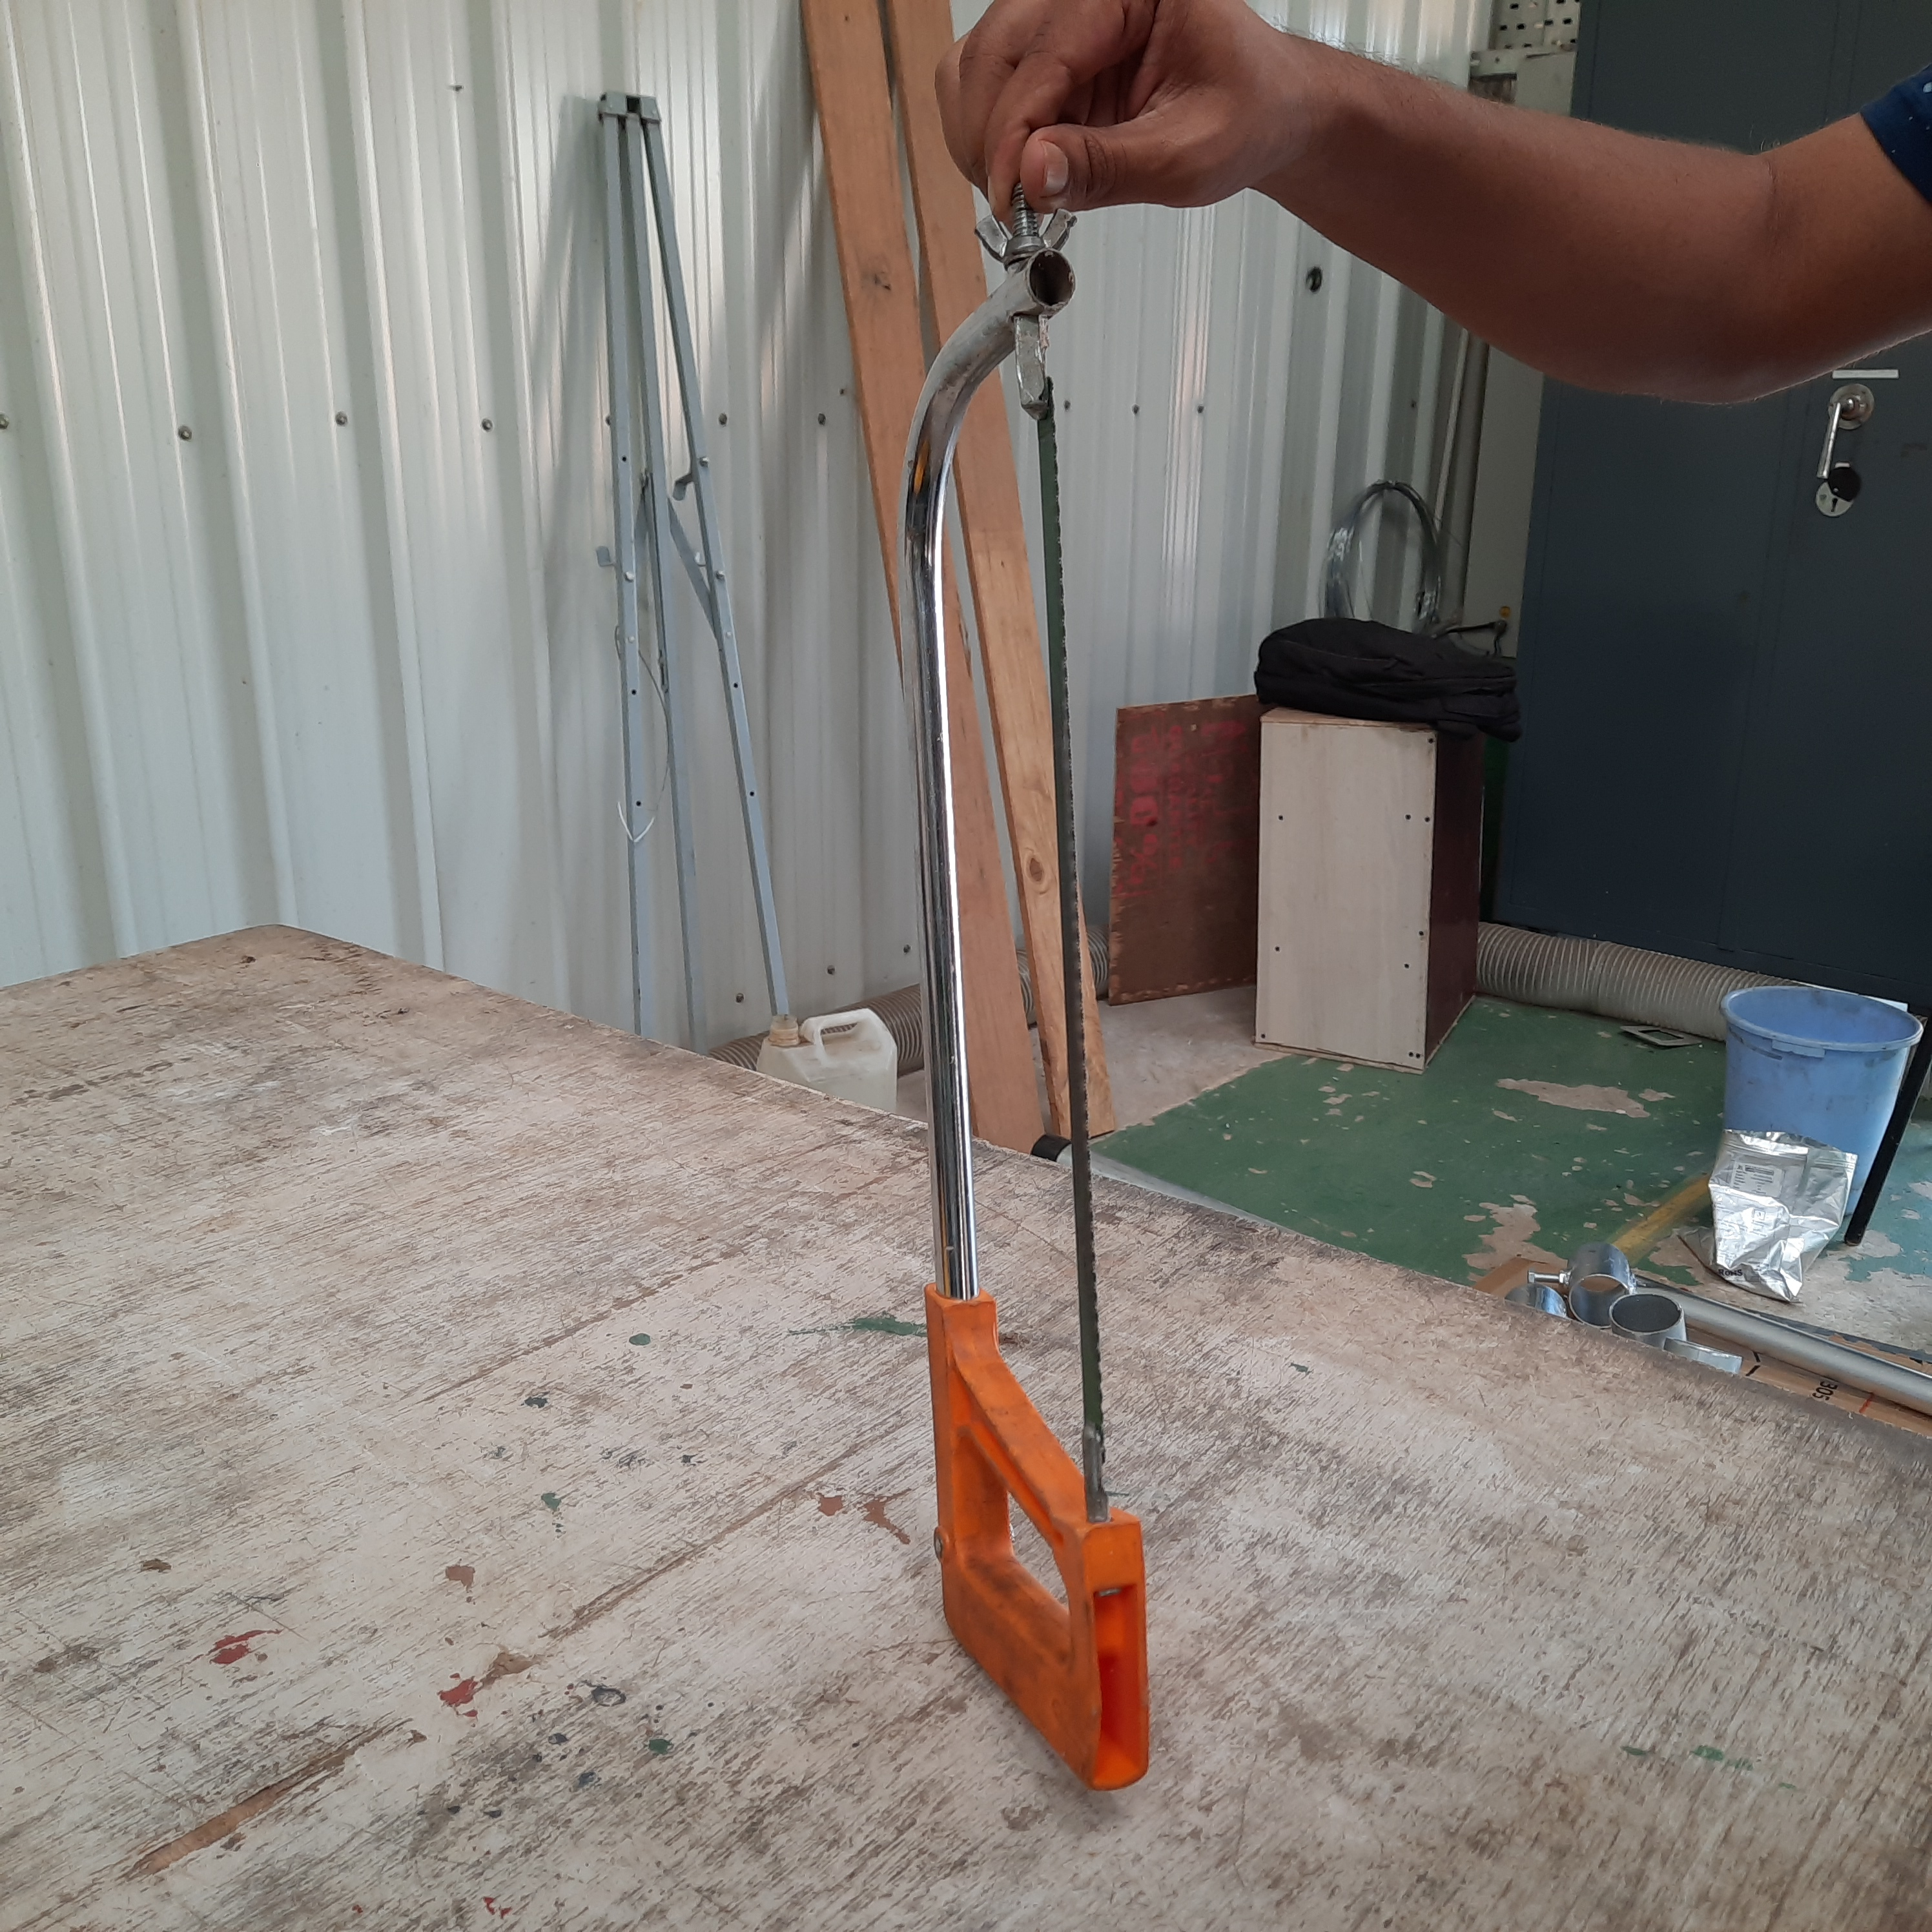Hexaframe: (878, 179, 1168, 1790)
